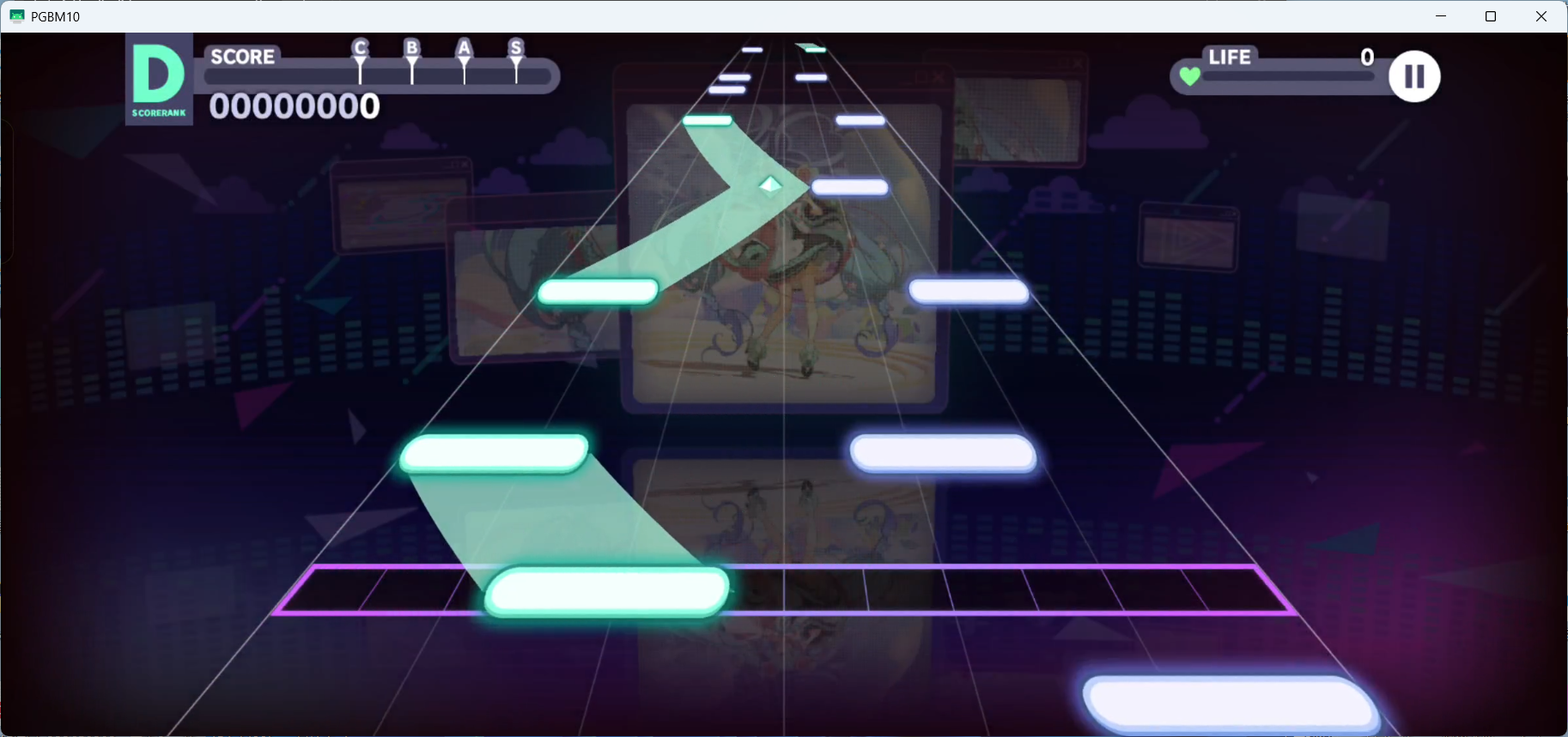hold: (565, 127, 811, 281), (407, 476, 707, 565), (794, 43, 818, 47)
sweep: (758, 176, 783, 199)
tap: (1079, 676, 1383, 737), (482, 565, 731, 621), (398, 432, 590, 475), (848, 433, 1037, 472), (537, 280, 659, 305), (909, 281, 1029, 305), (811, 179, 888, 196), (683, 115, 732, 126), (835, 115, 884, 125), (708, 86, 745, 94), (719, 75, 751, 82), (795, 75, 827, 81), (741, 47, 763, 53), (805, 47, 826, 53)
